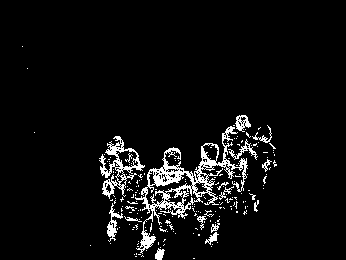person: (147, 146, 192, 260), (192, 140, 231, 248), (118, 148, 157, 253), (99, 133, 132, 242), (244, 122, 277, 216), (221, 113, 250, 200)
